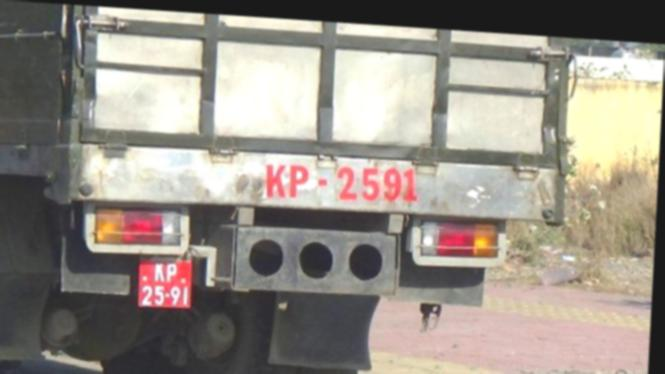License_Plate: (138, 257, 192, 311)
